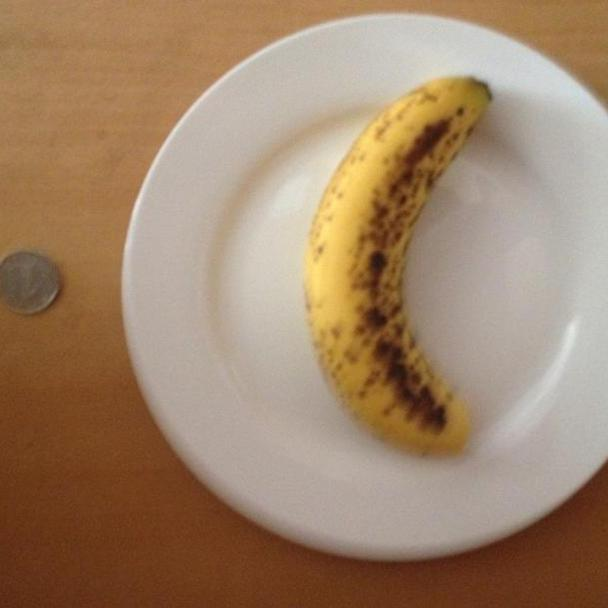banana: (303, 69, 500, 461)
